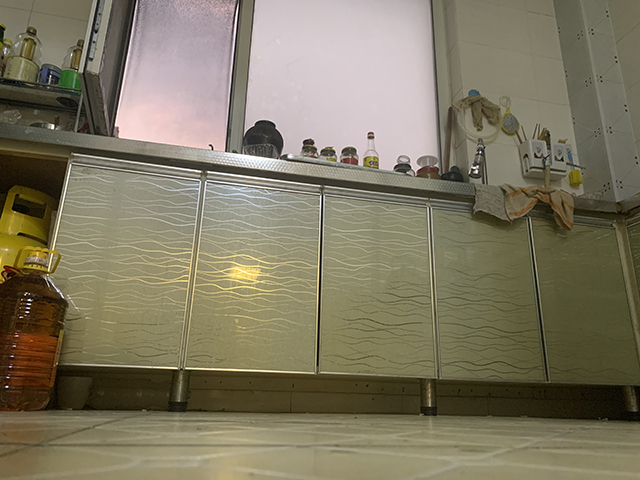cabinet: (61, 155, 639, 420)
